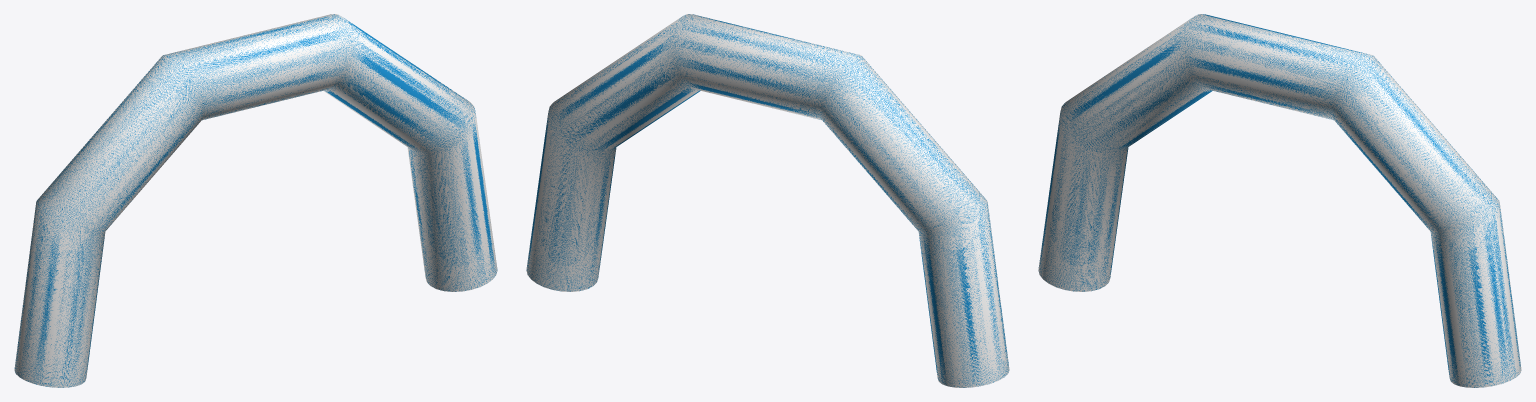
The model's file is largada.fbx.
3 views of the same model, side by side, from view 1: azimuth 30°, elevation 25°; view 2: azimuth 150°, elevation 25°; view 3: azimuth 330°, elevation 25° (orthographic).
Parts seen in each view (by area): view 1: Group1; view 2: Group1; view 3: Group1.
Part boxes in pixels (x1,y1,x2,y2): Group1: [14, 14, 497, 387]; Group1: [526, 14, 1009, 387]; Group1: [1038, 14, 1521, 387].
Bounding box in the file's own units: 11.97 × 7.05 × 1.6.
